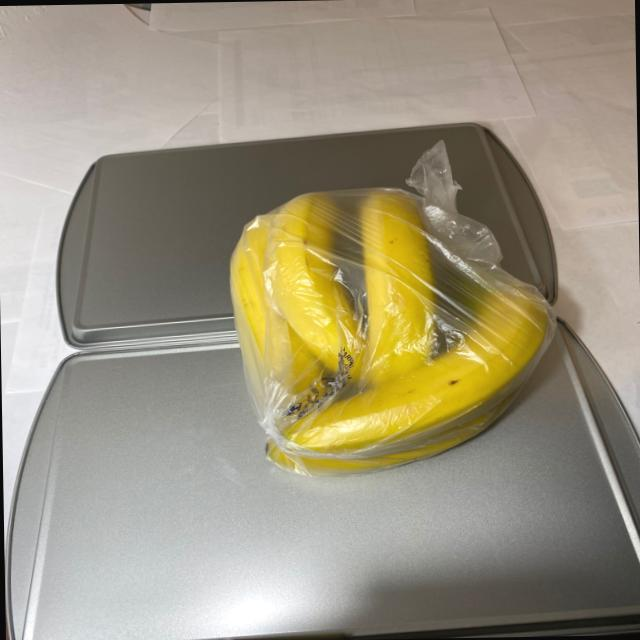banana: (224, 178, 560, 478)
